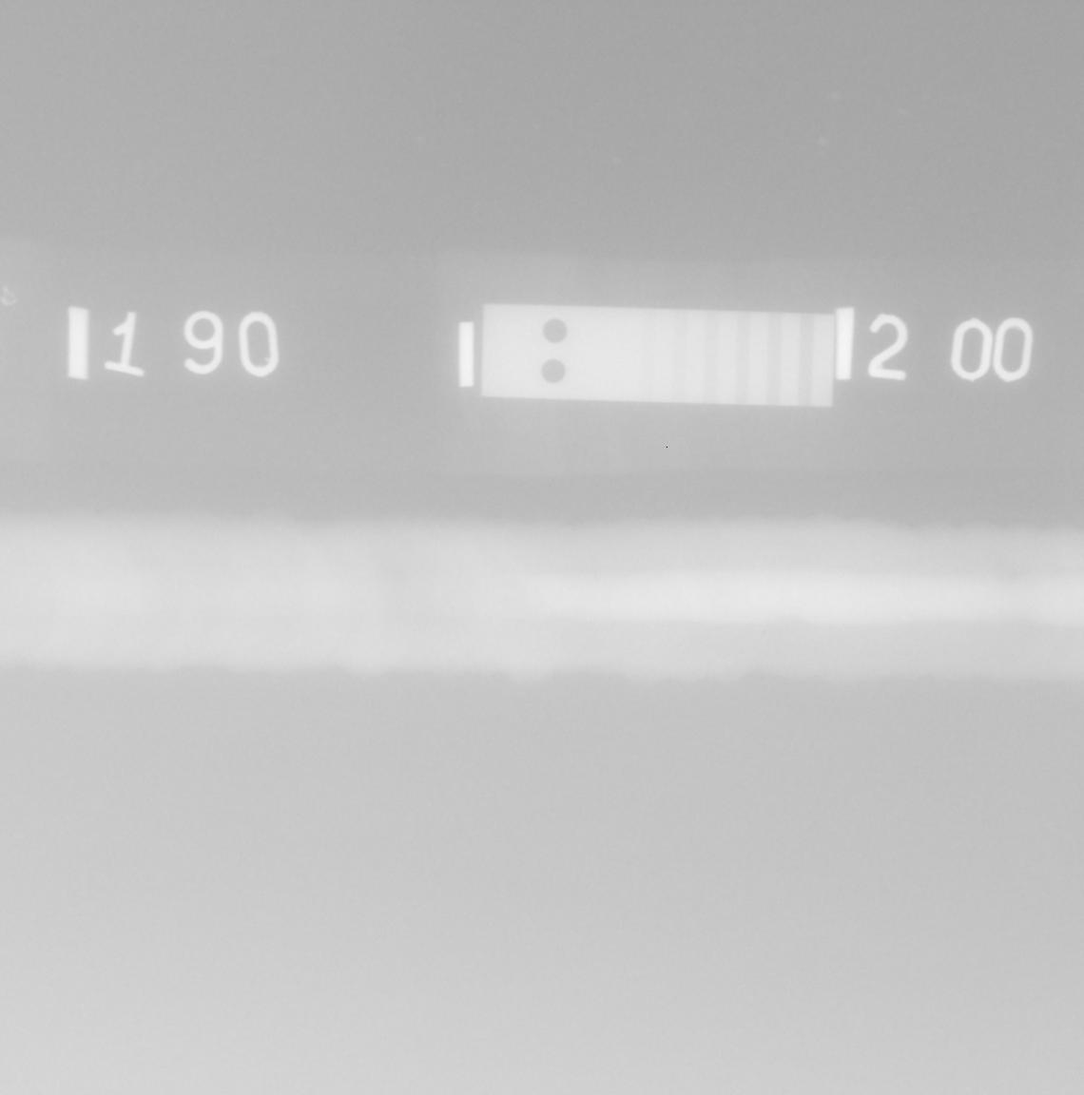Reference Standard 2: (480, 303, 834, 407)
